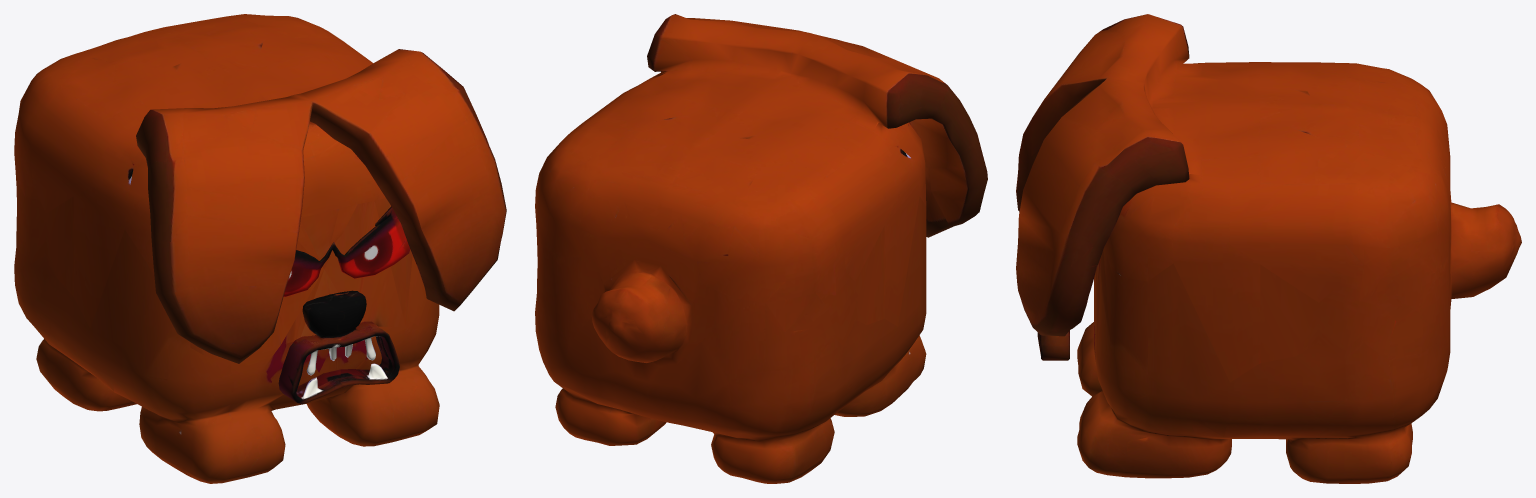
Rendered from cube_dog_basic_5k.fbx.
3 views of the same model, side by side, from view 1: azimuth 30°, elevation 25°; view 2: azimuth 150°, elevation 25°; view 3: azimuth 270°, elevation 25° (orthographic). The views are drawn at different scales.
Parts seen in each view (by area): view 1: cube_dog_basic_decimated; view 2: cube_dog_basic_decimated; view 3: cube_dog_basic_decimated.
Part boxes in pixels (x1,y1,x2,y2): cube_dog_basic_decimated: (14,14,506,483); cube_dog_basic_decimated: (535,14,987,483); cube_dog_basic_decimated: (1016,14,1521,483).
Bounding box in the file's own units: 1.47 × 1.46 × 1.91.
